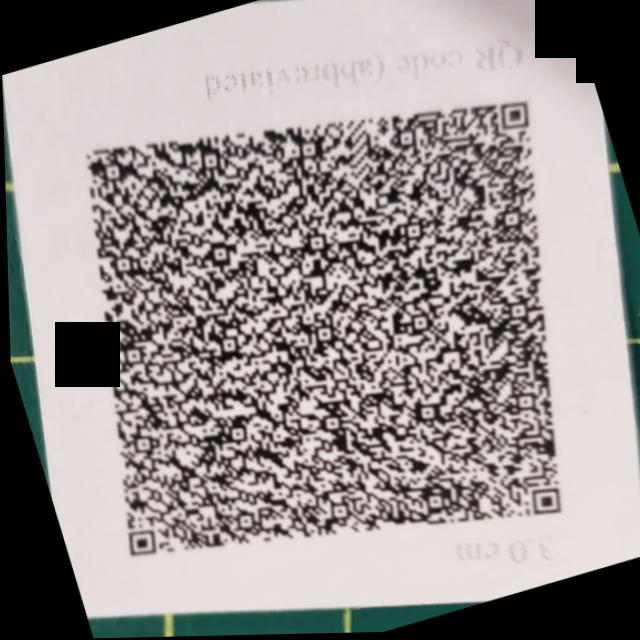QR_CODE: (0, 10, 640, 640)
